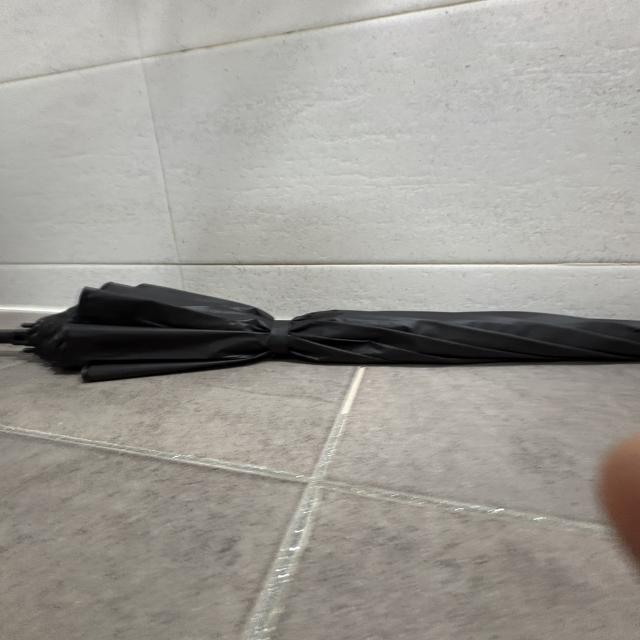umbrella: (0, 279, 640, 384)
